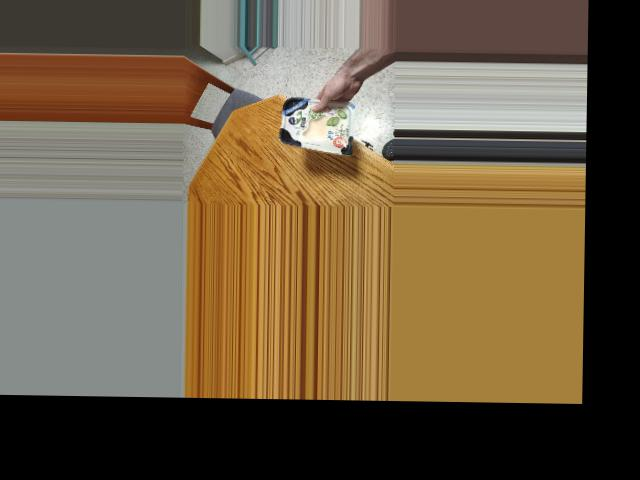cheese: (282, 97, 349, 150)
